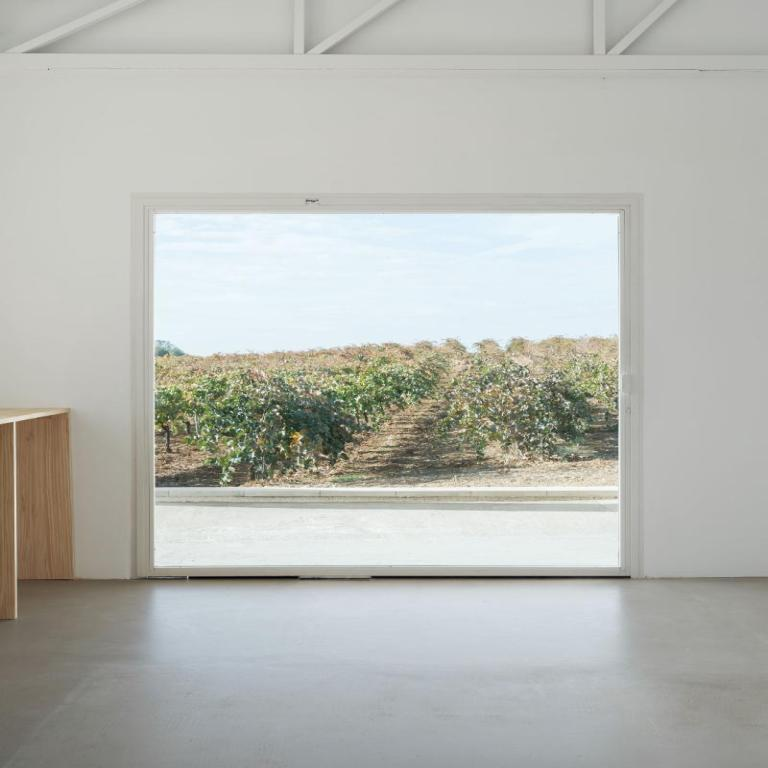white-walls: (23, 91, 753, 554)
